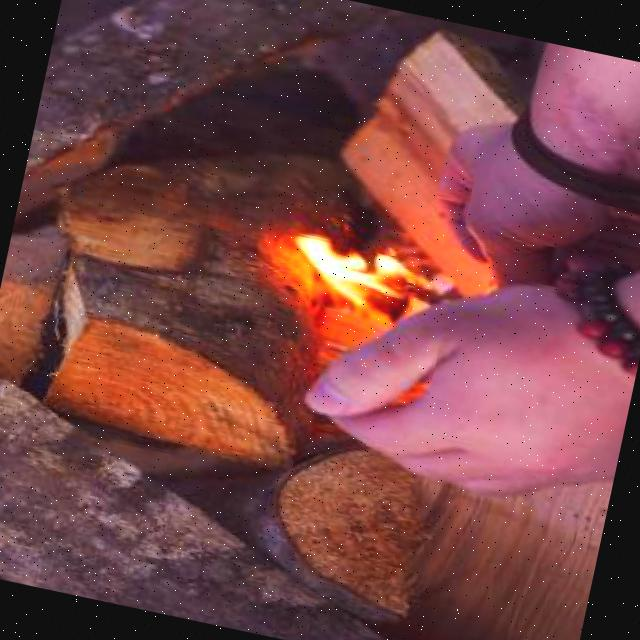fire: (250, 213, 463, 323)
